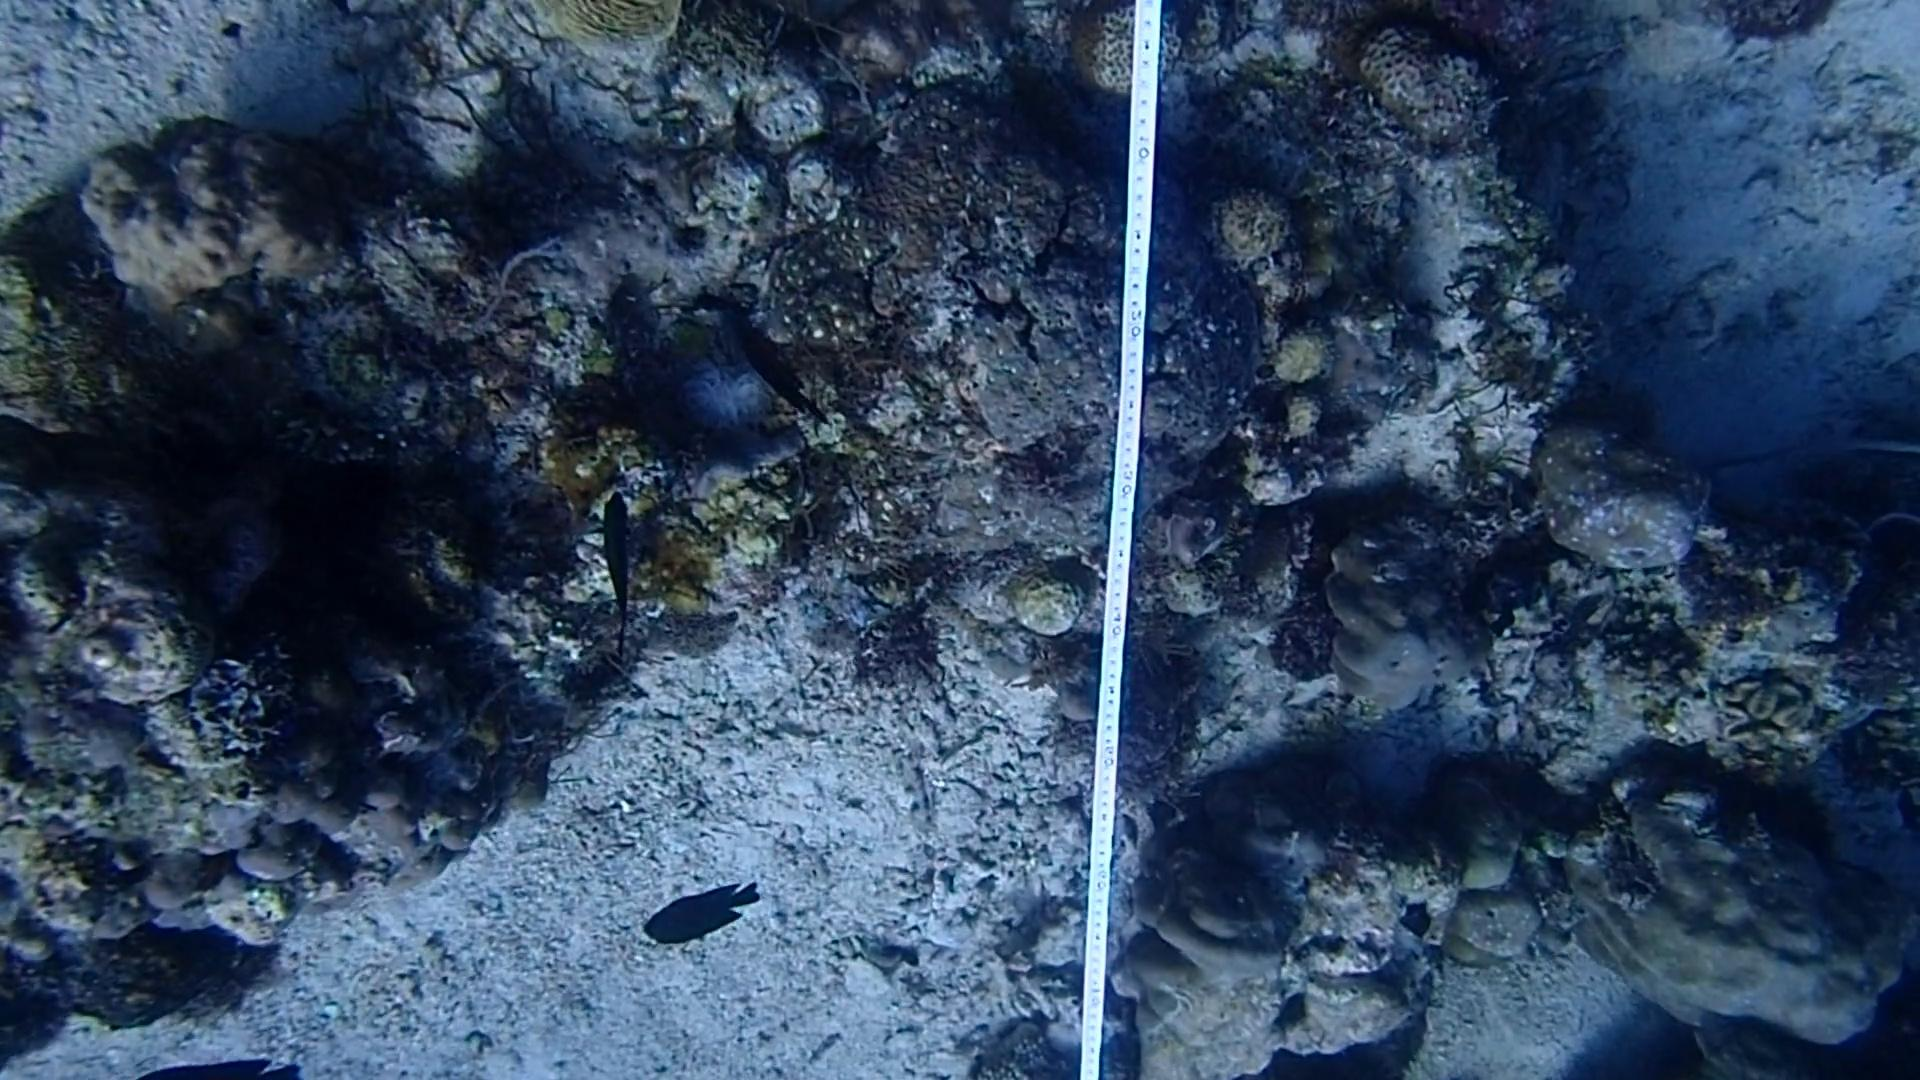Dark Fish: (716, 315, 832, 443), (638, 869, 761, 961), (583, 492, 633, 663), (132, 1054, 303, 1080)
